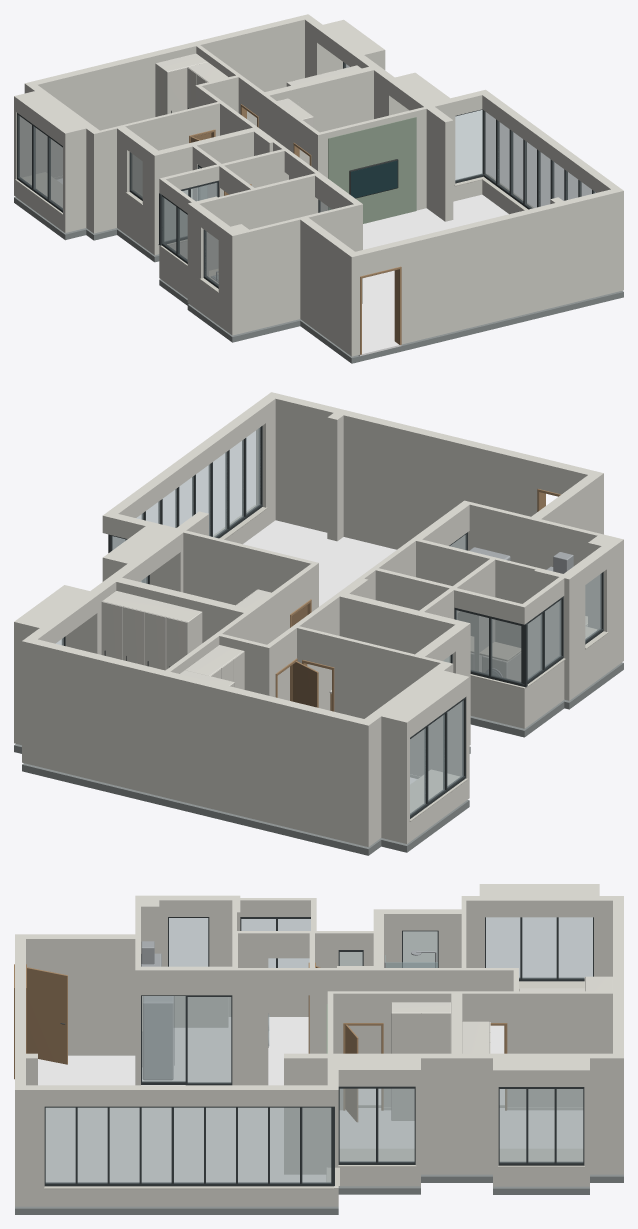
File: architecture.glb
The picture shows the model from 3 angles, top to bottom: view 1: azimuth 30°, elevation 25°; view 2: azimuth 150°, elevation 25°; view 3: azimuth 270°, elevation 25°; orthographic projection. The views are drawn at different scales.
Visible parts, largest first — view 1: 墙体_2.40-2.80_00, 墙体_0.00-0.45_00, 墙体_1.20-2.40_02, 墙体_1.20-2.40_00, 墙体_1.20-2.40_08, 客餐厅阳台及过道_地面, 电视墙_暖灰绿饰面, 墙体_0.50-0.95_04, 住宅楼板, 墙体_1.20-2.40_04, 墙体_1.20-2.40_01, 墙体_0.50-0.95_02 (+33 smaller); view 2: 墙体_2.40-2.80_00, 墙体_1.20-2.40_00, 墙体_0.00-0.45_00, 墙体_1.20-2.40_02, 墙体_0.50-0.95_00, 住宅楼板, 墙体_1.20-2.40_08, 墙体_1.20-2.40_07, 客餐厅阳台及过道_地面, 墙体_0.50-0.95_04, 墙体_1.20-2.40_03, 墙体_0.95-1.20_00 (+35 smaller); view 3: 墙体_2.40-2.80_00, 客餐厅阳台及过道_地面, 墙体_0.00-0.45_00, 墙体_1.20-2.40_00, 住宅楼板, 墙体_1.20-2.40_08, 墙体_1.20-2.40_01, 厨房双移门_玻璃1, 厨房双移门_玻璃0, 入户门_门扇_开启方向示意, 墙体_1.20-2.40_07, 长辈房_地面 (+58 smaller).
Part boxes in pixels (x1,y1,x2,y2): 墙体_2.40-2.80_00: [14, 14, 623, 271]; 墙体_0.00-0.45_00: [14, 115, 623, 356]; 墙体_1.20-2.40_02: [401, 205, 623, 301]; 墙体_1.20-2.40_00: [14, 34, 342, 154]; 墙体_1.20-2.40_08: [218, 218, 362, 313]; 客餐厅阳台及过道_地面: [358, 194, 508, 356]; 电视墙_暖灰绿饰面: [328, 117, 416, 223]; 墙体_0.50-0.95_04: [63, 189, 362, 338]; 住宅楼板: [14, 197, 623, 363]; 墙体_1.20-2.40_04: [63, 125, 188, 192]; 墙体_1.20-2.40_01: [258, 64, 409, 152]; 墙体_0.50-0.95_02: [401, 256, 623, 326]; 墙体_2.40-2.80_00: [14, 392, 623, 742]; 墙体_1.20-2.40_00: [14, 639, 409, 794]; 墙体_0.00-0.45_00: [14, 500, 623, 846]; 墙体_1.20-2.40_02: [256, 416, 537, 516]; 墙体_0.50-0.95_00: [14, 702, 409, 825]; 住宅楼板: [14, 662, 623, 855]; 墙体_1.20-2.40_08: [462, 491, 623, 621]; 墙体_1.20-2.40_07: [400, 558, 585, 648]; 客餐厅阳台及过道_地面: [243, 520, 396, 606]; 墙体_0.50-0.95_04: [318, 613, 623, 778]; 墙体_1.20-2.40_03: [150, 531, 318, 611]; 墙体_0.95-1.20_00: [14, 691, 409, 805]; 墙体_2.40-2.80_00: [15, 884, 623, 1106]; 客餐厅阳台及过道_地面: [38, 1055, 504, 1181]; 墙体_0.00-0.45_00: [15, 998, 623, 1206]; 墙体_1.20-2.40_00: [506, 917, 623, 1136]; 住宅楼板: [15, 1174, 623, 1214]; 墙体_1.20-2.40_08: [26, 917, 167, 1036]; 墙体_1.20-2.40_01: [383, 1010, 498, 1136]; 厨房双移门_玻璃1: [187, 997, 231, 1082]; 厨房双移门_玻璃0: [142, 996, 185, 1081]; 入户门_门扇_开启方向示意: [27, 967, 67, 1064]; 墙体_1.20-2.40_07: [209, 917, 268, 1036]; 长辈房_地面: [500, 1108, 582, 1148].
Bounding box in the file's own units: 10.67 × 3 × 13.28.
